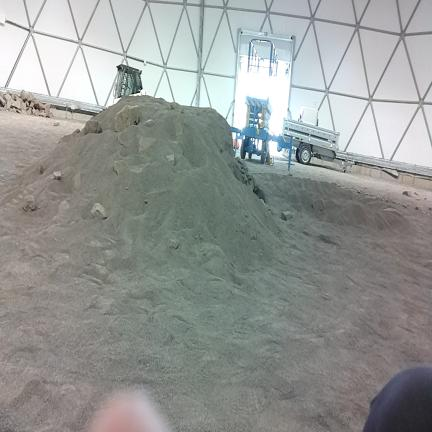Rock: (114, 105, 139, 132), (91, 203, 107, 219), (85, 120, 102, 134), (23, 194, 36, 212), (312, 199, 326, 211), (170, 102, 184, 113), (166, 155, 175, 165), (282, 211, 292, 220), (20, 90, 26, 101), (54, 171, 61, 180), (145, 119, 154, 126), (39, 164, 45, 174), (403, 191, 411, 196), (416, 206, 422, 211), (54, 122, 59, 125), (317, 198, 318, 199)
